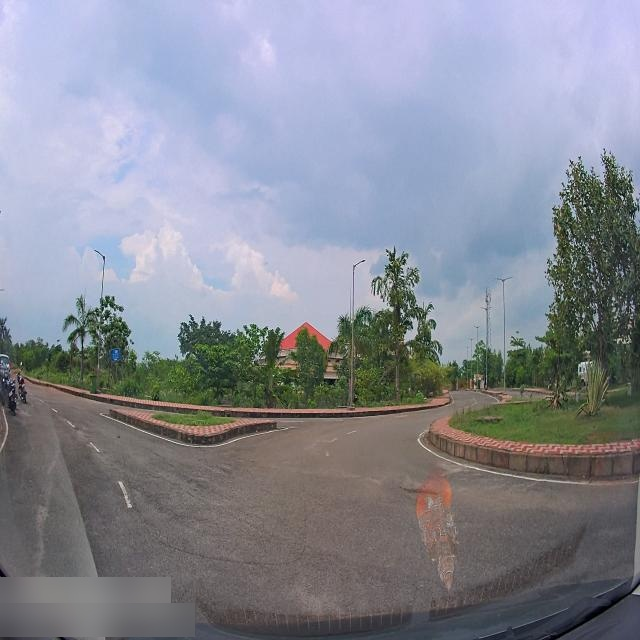pothole: (288, 426, 298, 429)
